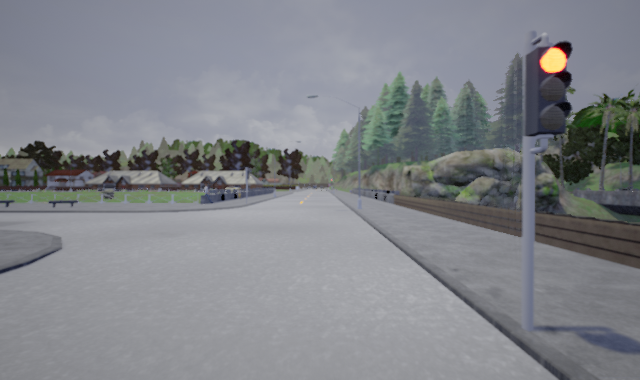pedestrian: (201, 181, 213, 203)
